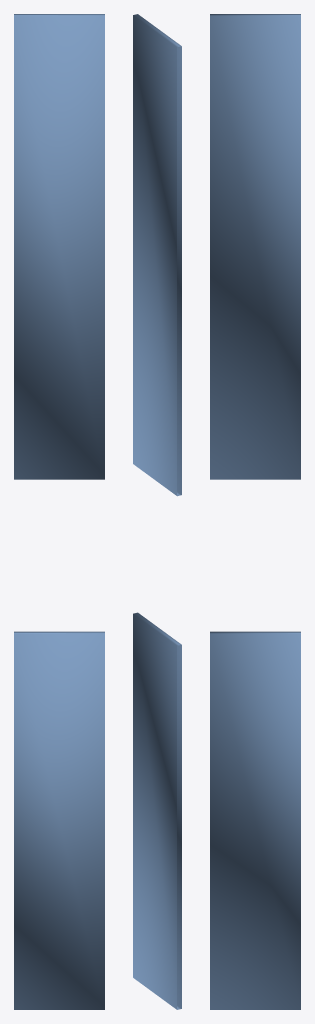
The model's file is KRM_M31_P5MOD_sapphire_narrow_panels.fbx.
3 views of the same model, side by side, from view 1: azimuth 90°, elevation 25°; view 2: azimuth 210°, elevation 25°; view 3: azimuth 270°, elevation 25° (orthographic). The views are drawn at different scales.
Visible parts, largest first — view 1: KRM_M31_P5MOD_sapphire_narrow_panels; view 2: KRM_M31_P5MOD_sapphire_narrow_panels; view 3: KRM_M31_P5MOD_sapphire_narrow_panels.
Boxes of the visible parts, x1,y1,x2,y2 form: KRM_M31_P5MOD_sapphire_narrow_panels: [14, 14, 104, 1009]; KRM_M31_P5MOD_sapphire_narrow_panels: [133, 14, 181, 1009]; KRM_M31_P5MOD_sapphire_narrow_panels: [210, 14, 300, 1009].
Bounding box in the file's own units: 5 × 965 × 80.
1 material, 1 textured.
